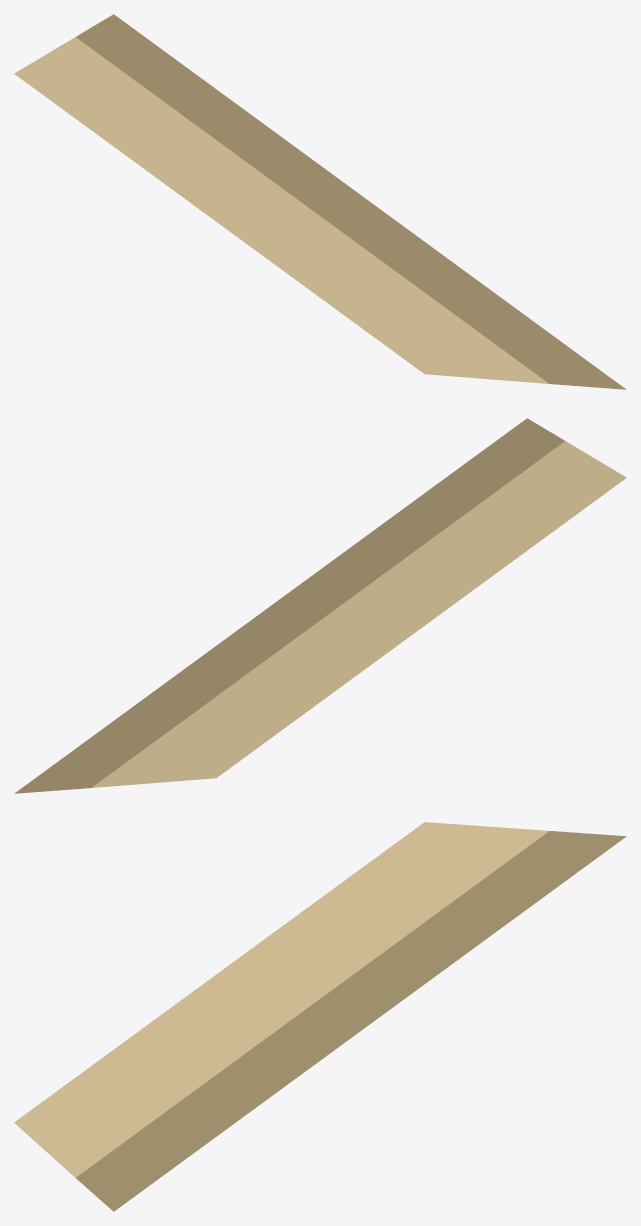
Rendered from SHORE_01.fbx.
The picture shows the model from 3 angles, top to bottom: view 1: azimuth 30°, elevation 25°; view 2: azimuth 150°, elevation 25°; view 3: azimuth 330°, elevation 25°; orthographic projection.
Parts seen in each view (by area): view 1: Beach, Wet_sand; view 2: Beach, Wet_sand; view 3: Beach, Wet_sand.
Boxes of the visible parts, left/top/right/bottom form: Beach: left=14, top=37, right=548, bottom=383; Wet_sand: left=76, top=14, right=626, bottom=389; Beach: left=92, top=441, right=626, bottom=787; Wet_sand: left=14, top=418, right=564, bottom=793; Beach: left=14, top=822, right=548, bottom=1177; Wet_sand: left=76, top=831, right=626, bottom=1211.
Size of the model in its own units: 17 by 1.6 by 100.
